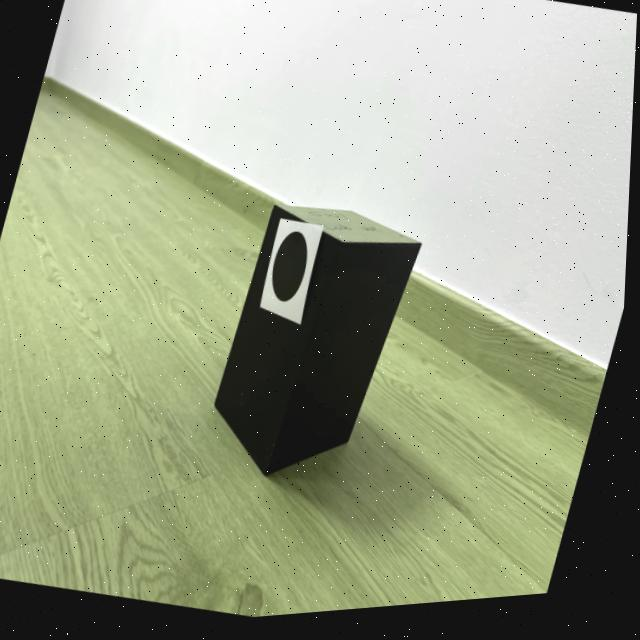CIRCLE: (274, 236, 310, 306)
